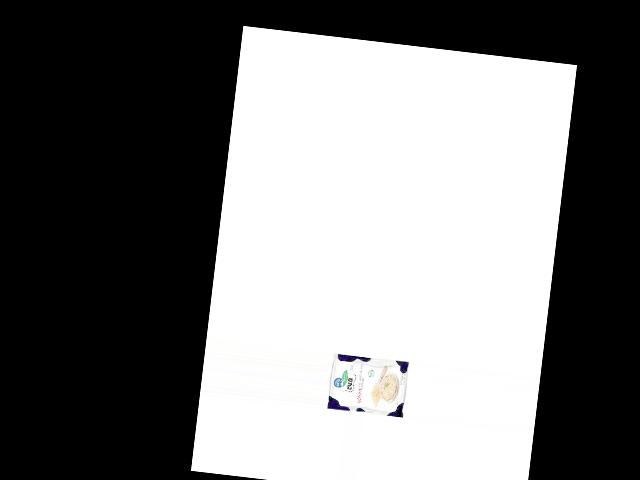cheese: (326, 352, 411, 419)
